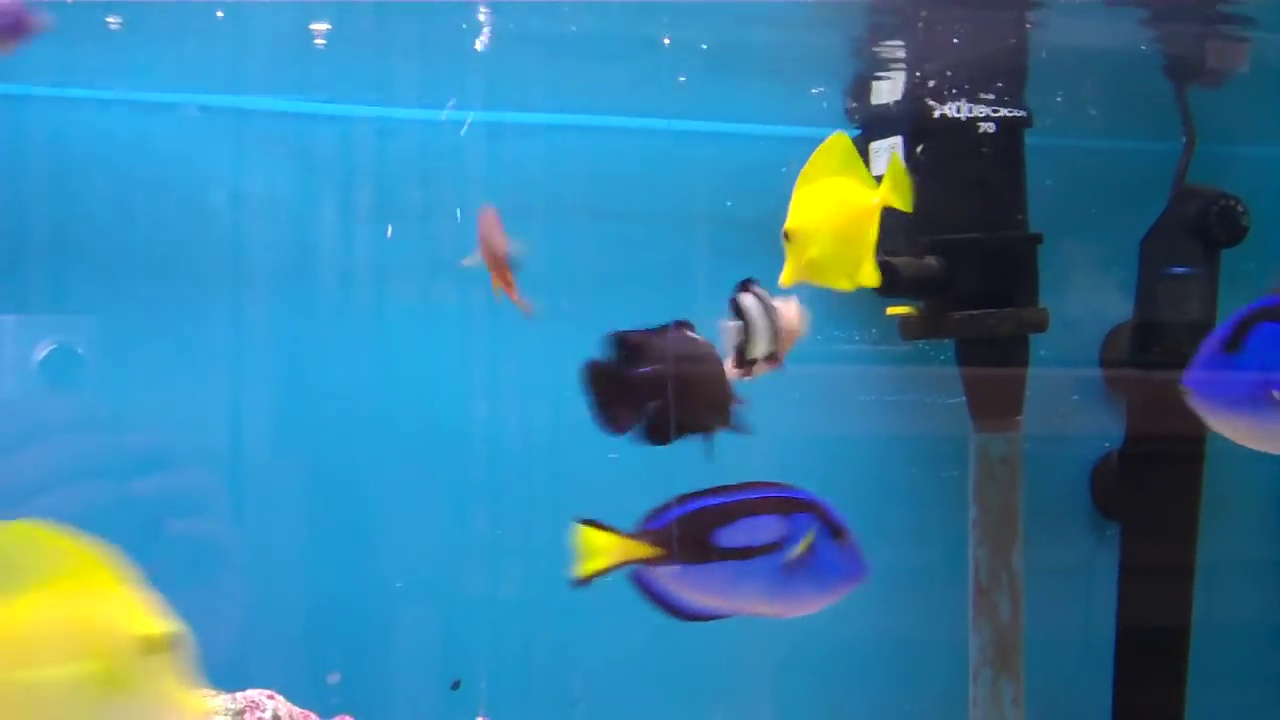blue tang surgeonfish: (560, 431, 874, 641)
saddle butterfly fish: (744, 119, 916, 306)
